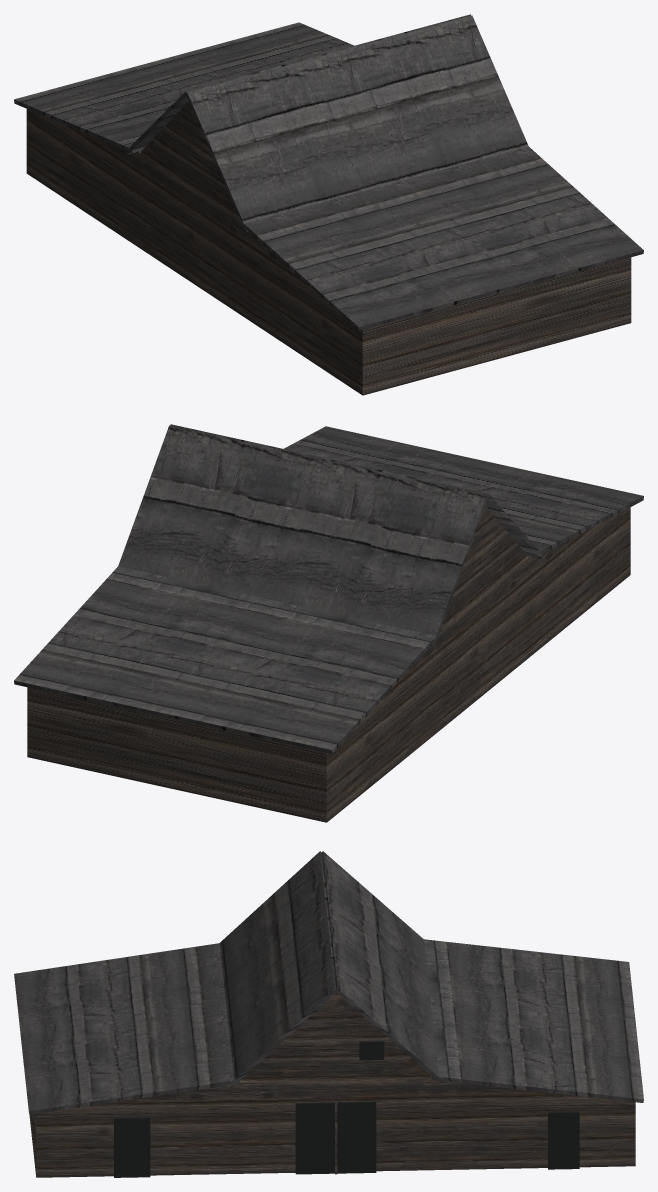
File: ta-moulton-barn-lod1.glb
3 views of the same model, one above another, from view 1: azimuth 30°, elevation 25°; view 2: azimuth 150°, elevation 25°; view 3: azimuth 270°, elevation 25° (orthographic). The views are drawn at different scales.
Visible parts, largest first — view 1: LOD1_weathered_shake_roof, LOD1_weathered_timber; view 2: LOD1_weathered_shake_roof, LOD1_weathered_timber; view 3: LOD1_weathered_shake_roof, LOD1_weathered_timber, LOD1_deep_recess.
Boxes of the visible parts, box(x1,y1,x2,y2) form: LOD1_weathered_shake_roof: box(14, 14, 643, 330); LOD1_weathered_timber: box(26, 101, 631, 395); LOD1_weathered_shake_roof: box(14, 424, 643, 753); LOD1_weathered_timber: box(27, 506, 630, 822); LOD1_weathered_shake_roof: box(14, 851, 643, 1114); LOD1_weathered_timber: box(29, 992, 635, 1177); LOD1_deep_recess: box(114, 1041, 579, 1177).
Bounding box in the file's own units: 10.21 × 5.98 × 18.21.
3 materials, 2 textured.
